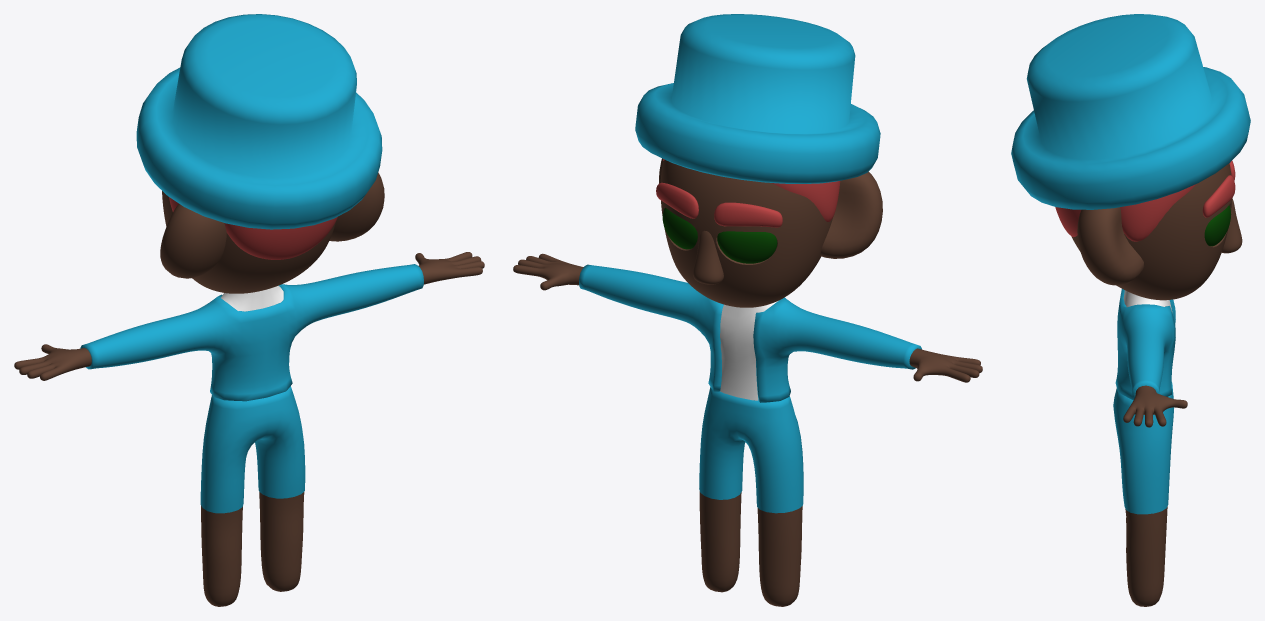
The model's file is MaleNPC3.fbx.
The picture shows the model from 3 angles, left to right: view 1: azimuth 30°, elevation 25°; view 2: azimuth 150°, elevation 25°; view 3: azimuth 270°, elevation 25°; orthographic projection.
Parts seen in each view (by area): view 1: TopHat, Body.005, Body.004, Trousers.002, Head.004, Hairbase.002; view 2: TopHat, Head.004, Body.004, Body.005, Trousers.002, Brows.003, Hairbase.002; view 3: TopHat, Head.004, Body.004, Body.005, Trousers.002, Hairbase.002, Brows.003.
Part boxes in pixels (left/top/right/bottom): TopHat: left=136, top=14, right=382, bottom=229; Body.005: left=80, top=264, right=423, bottom=401; Body.004: left=14, top=252, right=484, bottom=606; Trousers.002: left=200, top=386, right=305, bottom=513; Head.004: left=160, top=172, right=384, bottom=293; Hairbase.002: left=169, top=197, right=337, bottom=259; TopHat: left=635, top=14, right=880, bottom=183; Head.004: left=659, top=158, right=882, bottom=307; Body.004: left=513, top=253, right=982, bottom=606; Body.005: left=579, top=264, right=921, bottom=402; Trousers.002: left=699, top=387, right=803, bottom=513; Brows.003: left=656, top=182, right=782, bottom=227; Hairbase.002: left=663, top=159, right=840, bottom=221; TopHat: left=1011, top=14, right=1250, bottom=209; Head.004: left=1071, top=163, right=1242, bottom=300; Body.004: left=1123, top=290, right=1187, bottom=606; Body.005: left=1115, top=289, right=1175, bottom=400; Trousers.002: left=1113, top=382, right=1174, bottom=514; Hairbase.002: left=1055, top=184, right=1196, bottom=241; Brows.003: left=1202, top=160, right=1235, bottom=217.
Size of the model in its own units: 172 by 202 by 78.78.
